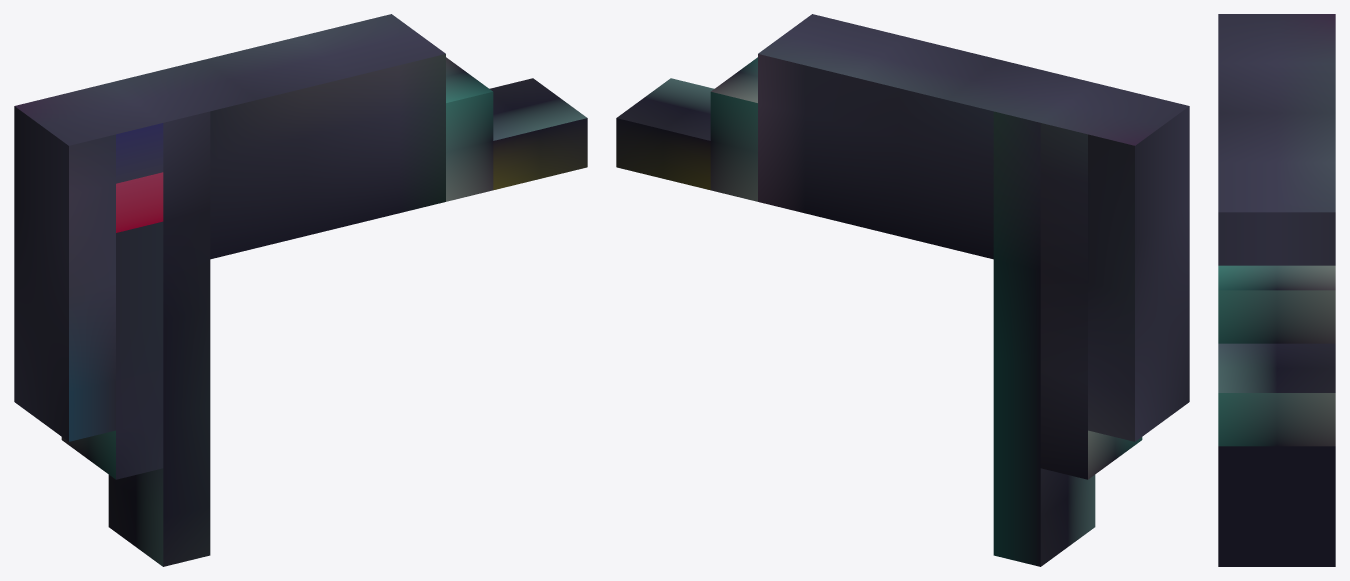
Rendered from Electronics_Angle_A_00.fbx.
The picture shows the model from 3 angles, left to right: view 1: azimuth 30°, elevation 25°; view 2: azimuth 150°, elevation 25°; view 3: azimuth 270°, elevation 25°; orthographic projection. The views are drawn at different scales.
Parts seen in each view (by area): view 1: Electronics_Angle_A_00; view 2: Electronics_Angle_A_00; view 3: Electronics_Angle_A_00.
Part boxes in pixels (x1=…): Electronics_Angle_A_00: x1=14, y1=14, x2=587, y2=566; Electronics_Angle_A_00: x1=616, y1=14, x2=1189, y2=566; Electronics_Angle_A_00: x1=1218, y1=14, x2=1335, y2=566.
Bounding box in the file's own units: 55 × 45 × 10.
